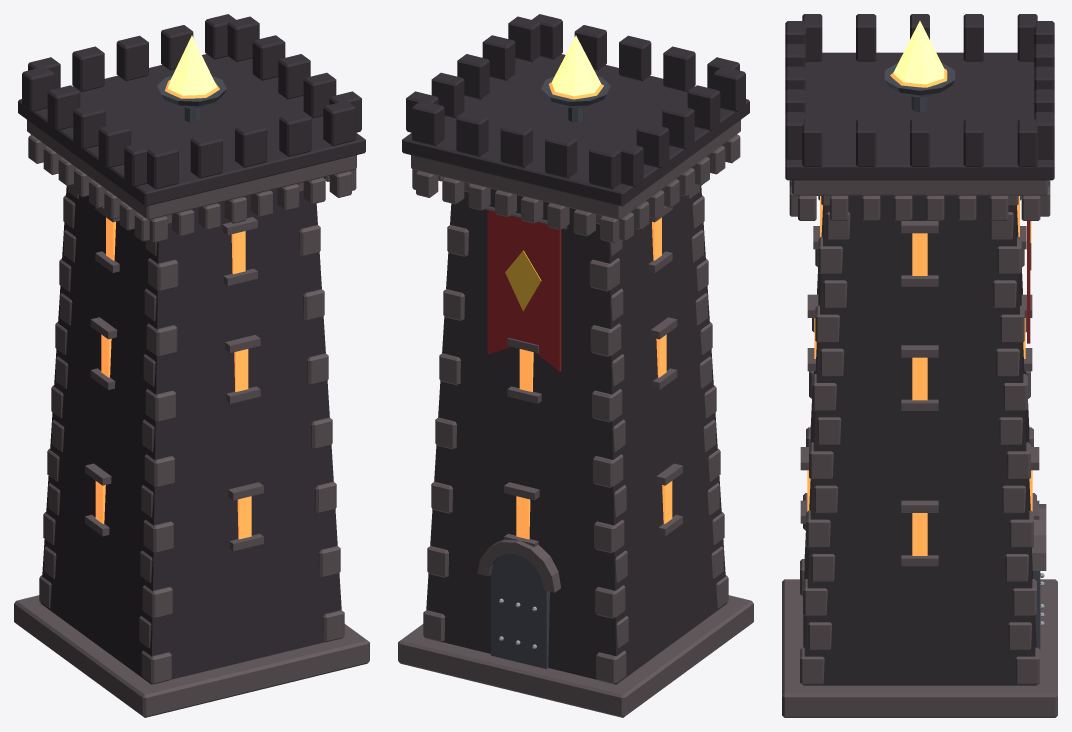
The model's file is Watchtower.fbx.
3 views of the same model, side by side, from view 1: azimuth 30°, elevation 25°; view 2: azimuth 150°, elevation 25°; view 3: azimuth 270°, elevation 25° (orthographic). The views are drawn at different scales.
Parts seen in each view (by area): view 1: Watchtower_Basalt, Watchtower_BasaltLight, Watchtower_Ember, Watchtower_Fire, Watchtower_DarkMetal; view 2: Watchtower_Basalt, Watchtower_BasaltLight, Watchtower_RedDark, Watchtower_DarkMetal, Watchtower_Ember, Watchtower_Fire, Watchtower_Gold; view 3: Watchtower_Basalt, Watchtower_BasaltLight, Watchtower_Ember, Watchtower_Fire, Watchtower_DarkMetal, Watchtower_RedDark.
Part boxes in pixels (x1,y1,x2,y2): Watchtower_Basalt: (18,14,365,684); Watchtower_BasaltLight: (14,120,369,717); Watchtower_Ember: (95,79,251,539); Watchtower_Fire: (167,35,216,95); Watchtower_DarkMetal: (157,75,226,122); Watchtower_Basalt: (402,14,749,684); Watchtower_BasaltLight: (398,120,753,717); Watchtower_RedDark: (487,209,561,371); Watchtower_DarkMetal: (484,76,610,668); Watchtower_Ember: (516,82,672,539); Watchtower_Fire: (551,35,600,96); Watchtower_Gold: (505,250,541,311); Watchtower_Basalt: (785,14,1054,685); Watchtower_BasaltLight: (782,180,1057,717); Watchtower_Ember: (807,68,1032,555); Watchtower_Fire: (893,21,944,84); Watchtower_DarkMetal: (884,62,1040,650); Watchtower_RedDark: (1027,221,1030,343).
Bounding box in the file's own units: 16.6 × 42 × 16.4.
